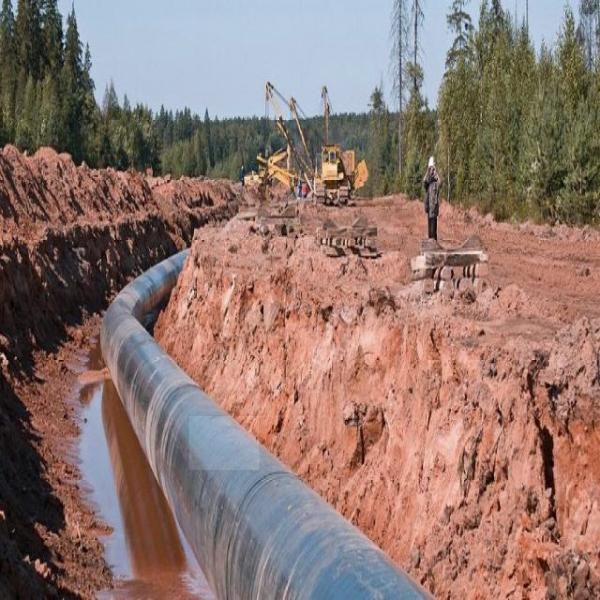no leak: (189, 416, 259, 470)
